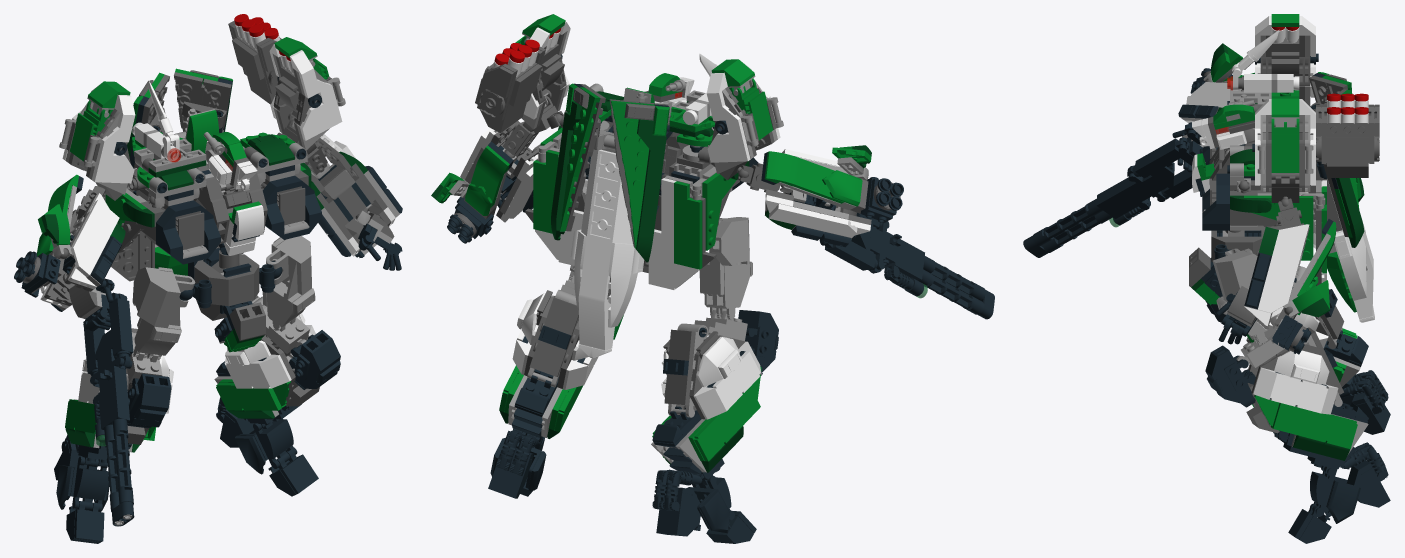
The model's file is afc-01i-legioss-battroid.dae.
3 renders of one model, left to right at view 1: azimuth 30°, elevation 25°; view 2: azimuth 150°, elevation 25°; view 3: azimuth 270°, elevation 25°, orthographic. The views are drawn at different scales.
Size of the model in its own units: 643 by 531 by 698.
